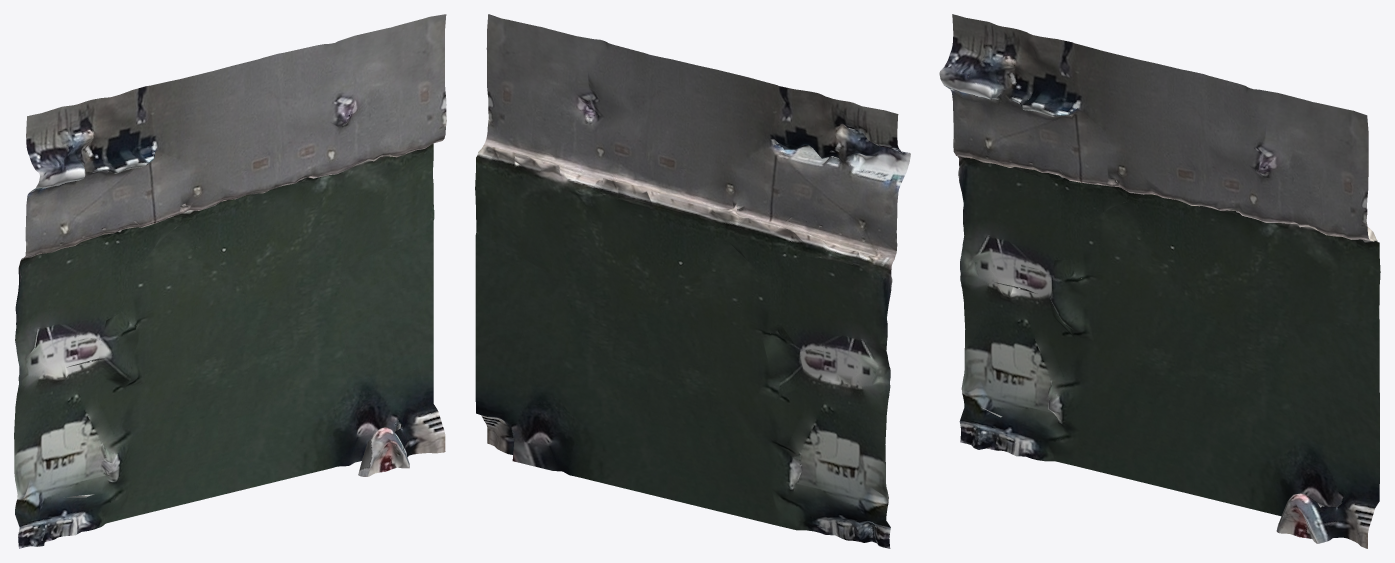
Rendered from Tile_+029_+018_L21_0012100.fbx.
3 renders of one model, left to right at view 1: azimuth 30°, elevation 25°; view 2: azimuth 150°, elevation 25°; view 3: azimuth 330°, elevation 25°, orthographic. The views are drawn at different scales.
Visible parts, largest first — view 1: DefaultName; view 2: DefaultName; view 3: DefaultName.
Boxes of the visible parts, x1,y1,x2,y2 form: DefaultName: (14,14,446,548); DefaultName: (475,14,910,548); DefaultName: (939,14,1380,548).
Size of the model in its own units: 31.38 by 31.38 by 3.57.
Materials: 1 (1 with a texture image).
